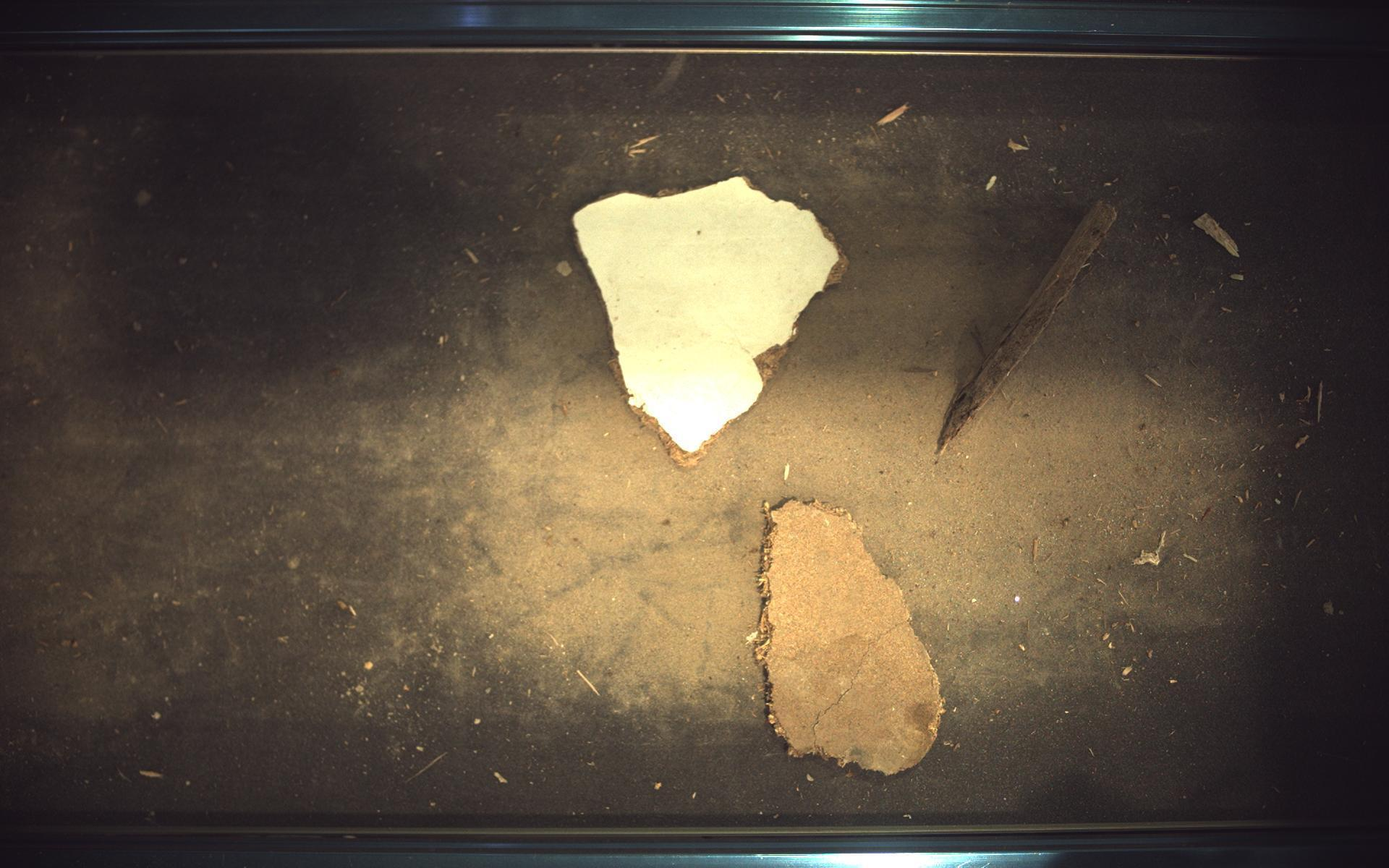wood: (574, 176, 849, 467), (757, 501, 945, 775), (938, 200, 1119, 456)
